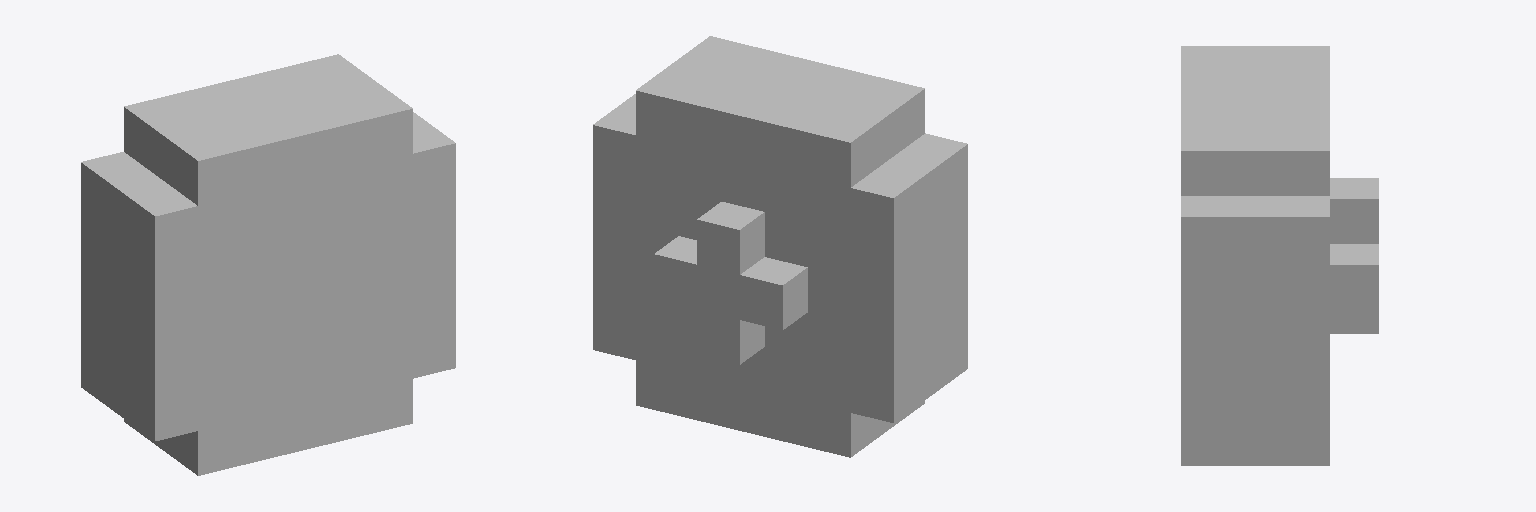
File: masochut z kolami-3.obj
3 renders of one model, left to right at view 1: azimuth 30°, elevation 25°; view 2: azimuth 150°, elevation 25°; view 3: azimuth 270°, elevation 25°, orthographic.
Parts seen in each view (by area): view 1: object 1; view 2: object 1; view 3: object 1.
Boxes of the visible parts, box(x1,y1,x2,y2) form: object 1: box(81, 54, 455, 475); object 1: box(593, 36, 967, 457); object 1: box(1181, 46, 1378, 465).
Bounding box in the file's own units: 0.7 × 0.7 × 0.4.